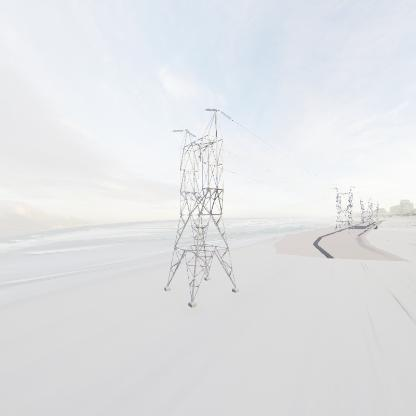tower: (160, 104, 243, 311), (331, 186, 356, 234)
